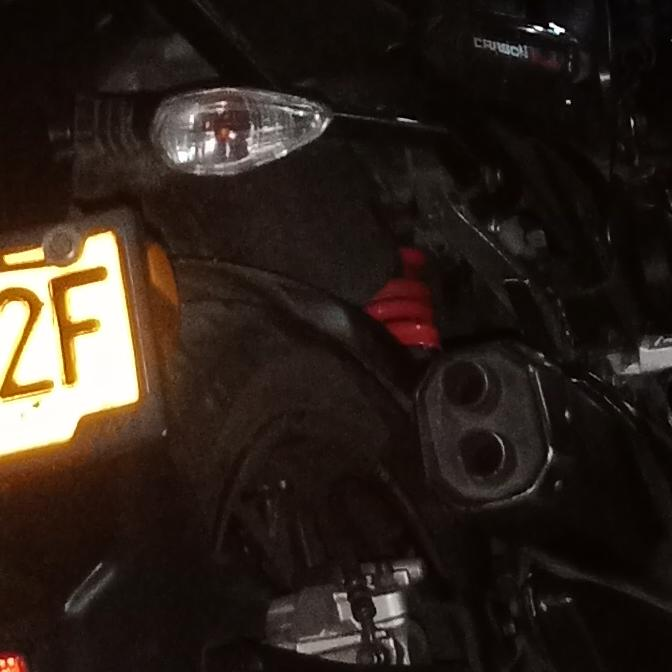plates: (0, 227, 152, 462)
